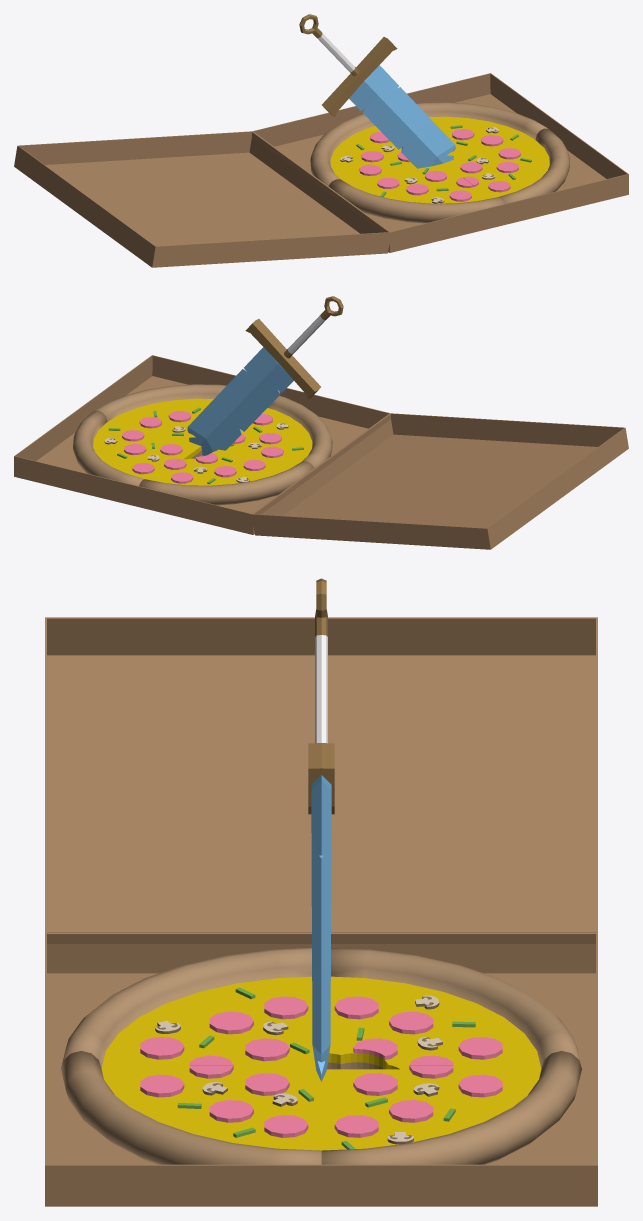
File: pizzaz.fbx
The picture shows the model from 3 angles, top to bottom: view 1: azimuth 30°, elevation 25°; view 2: azimuth 150°, elevation 25°; view 3: azimuth 270°, elevation 25°; orthographic projection. The views are drawn at different scales.
Parts seen in each view (by area): view 1: Cube.001, Cube, Cube.002, slice3, slice4, slice2.001, slice; view 2: Cube.001, Cube, Cube.002, slice2.001, slice, slice3, slice4; view 3: Cube.001, Cube, slice3, slice2.001, slice4, slice, Cube.002.
Boxes of the visible parts, x1=… form: Cube.001: x1=14, y1=131, x2=391, y2=267; Cube: x1=252, y1=73, x2=628, y2=252; Cube.002: x1=299, y1=14, x2=455, y2=168; slice3: x1=328, y1=164, x2=503, y2=223; slice4: x1=442, y1=128, x2=569, y2=203; slice2.001: x1=310, y1=113, x2=416, y2=186; slice: x1=416, y1=102, x2=547, y2=159; Cube.001: x1=252, y1=413, x2=628, y2=549; Cube: x1=14, y1=355, x2=390, y2=534; Cube.002: x1=187, y1=296, x2=343, y2=455; slice2.001: x1=139, y1=449, x2=314, y2=505; slice: x1=73, y1=410, x2=202, y2=485; slice3: x1=226, y1=395, x2=332, y2=468; slice4: x1=95, y1=384, x2=226, y2=441; Cube.001: x1=45, y1=617, x2=597, y2=943; Cube: x1=45, y1=932, x2=597, y2=1206; slice3: x1=61, y1=948, x2=315, y2=1069; slice2.001: x1=327, y1=948, x2=581, y2=1069; slice4: x1=61, y1=1051, x2=321, y2=1164; slice: x1=321, y1=1051, x2=581, y2=1164; Cube.002: x1=308, y1=578, x2=334, y2=1081.
Size of the model in its own units: 1222 by 473 by 613.
